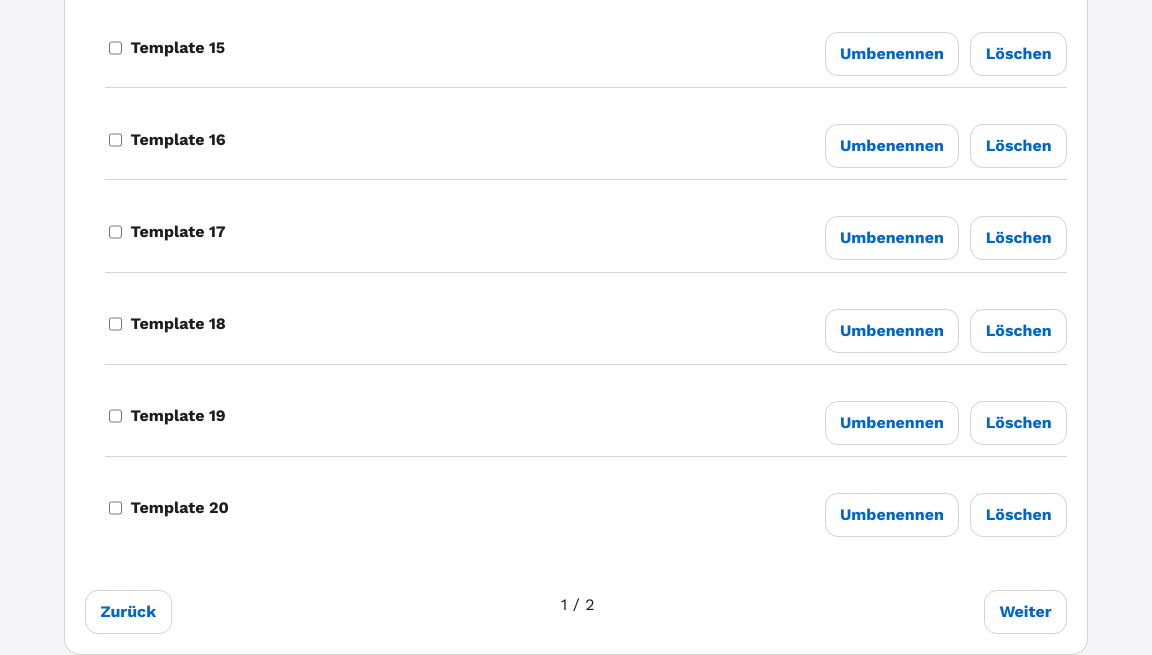
it: AdminPage session gate › searches templates and paginates in pages of twenty
The width and height of the screenshot is (1152, 655).
(page scrolled)
Click the button "Weiter" at {"x": 1026, "y": 612}, box x1=984 y1=590 x2=1067 y2=634
(page scrolled)
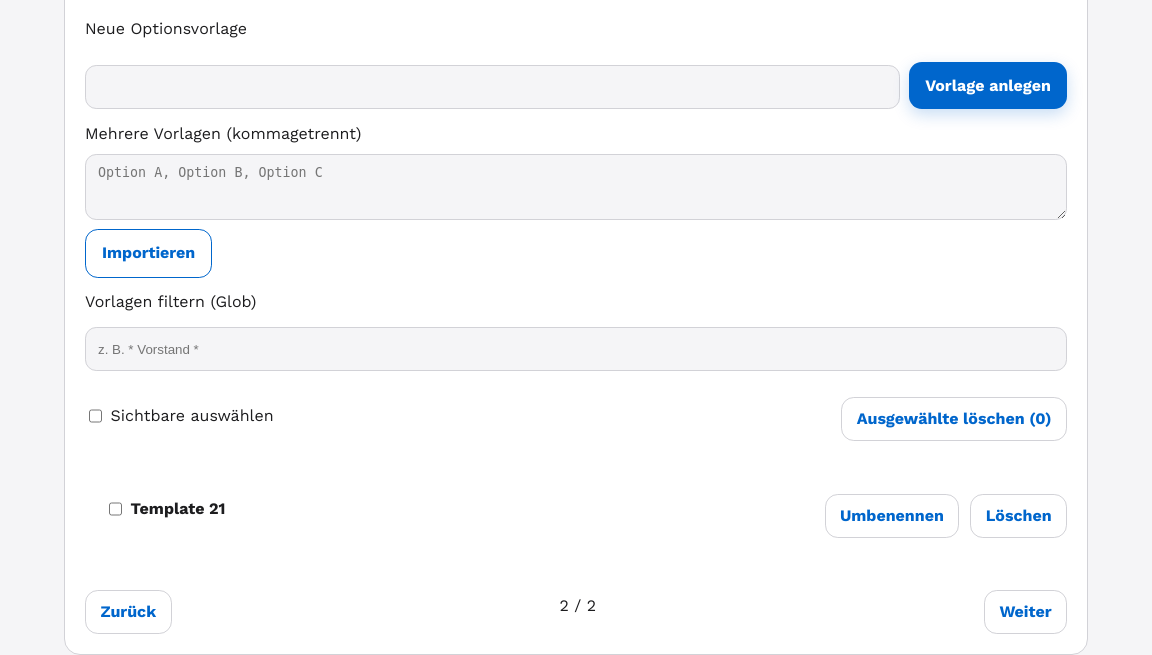
Expected: the text "Template 21" is shown, x1=131 y1=497 x2=226 y2=521
Expected: the number of list items is 1, x1=105 y1=470 x2=1067 y2=549
Type "*Template 2*" into the field labelled "Vorlagen filtern (Glob)" at {"x": 576, "y": 349}, box x1=85 y1=327 x2=1067 y2=371
(page scrolled)
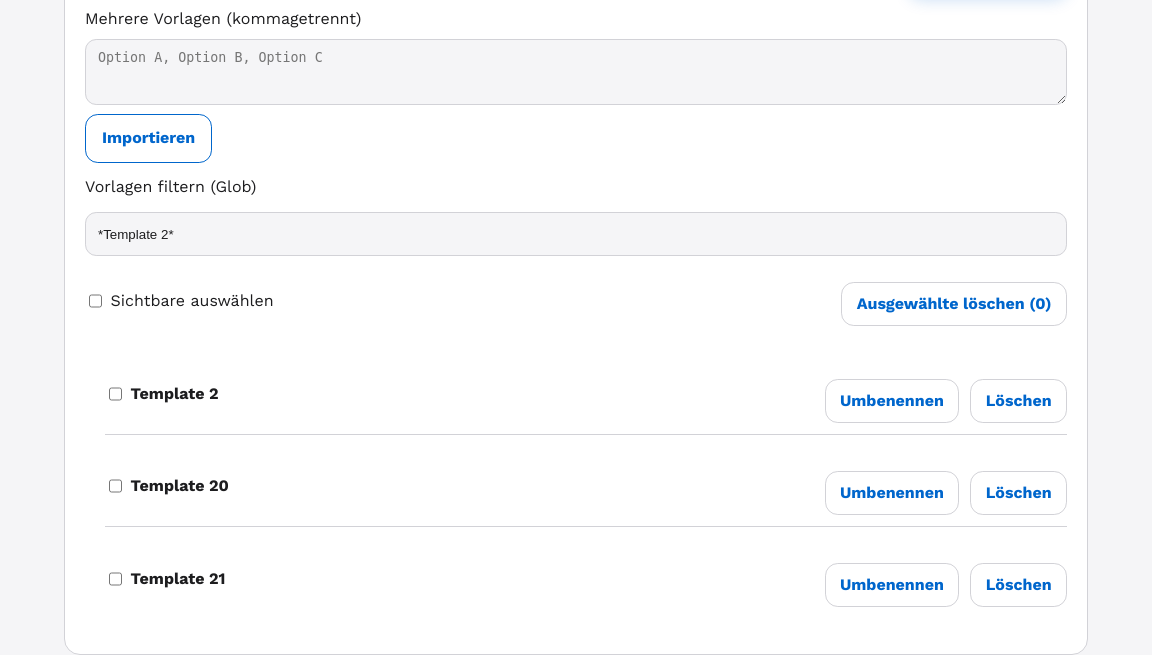
Expected: the text "Template 2" is shown, x1=131 y1=382 x2=219 y2=406
Expected: the text "Template 20" is shown, x1=131 y1=474 x2=229 y2=498
